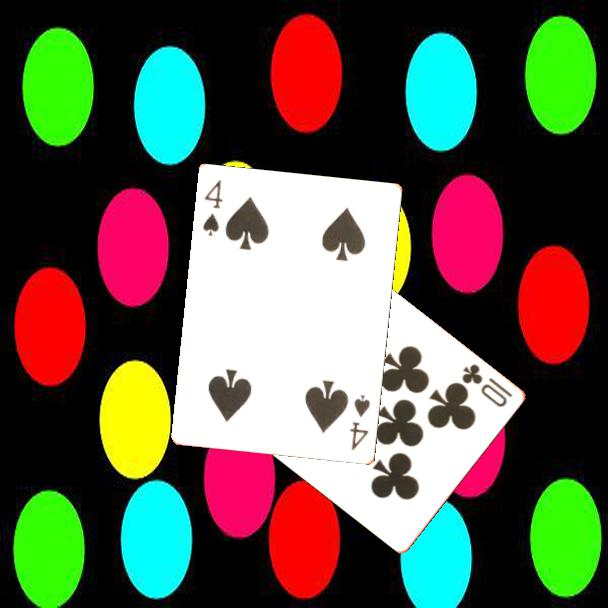c10: (459, 360, 516, 410)
s04: (347, 391, 373, 454), (200, 177, 226, 239)
